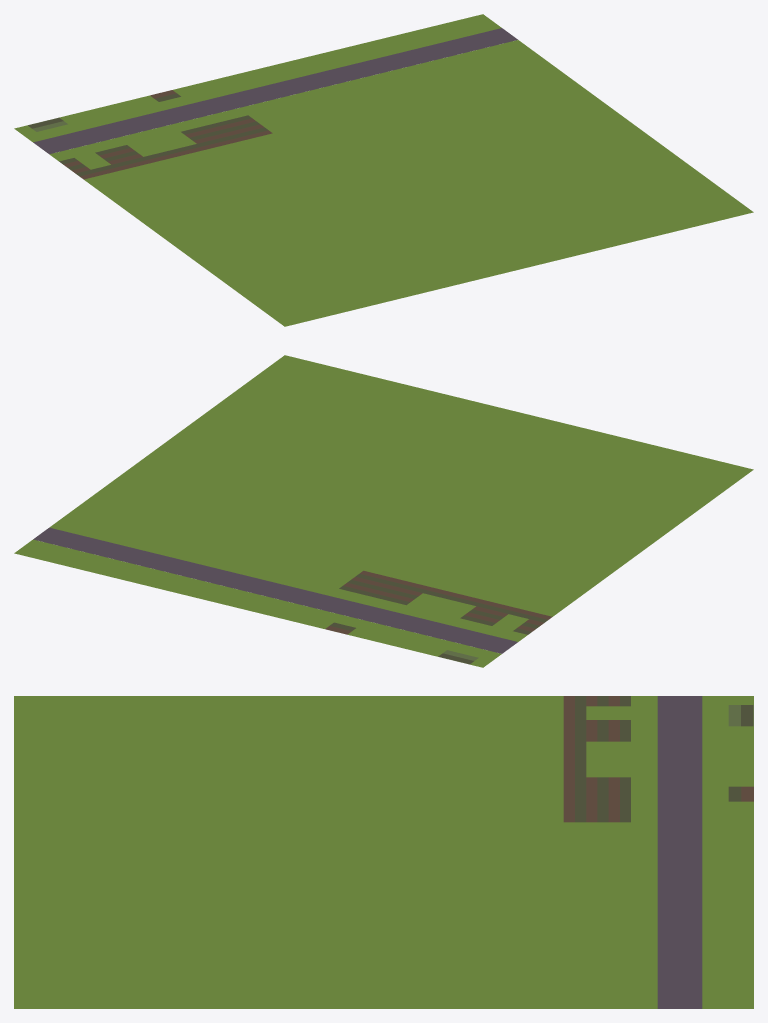
File: cure-15-3.glb
The picture shows the model from 3 angles, top to bottom: view 1: azimuth 30°, elevation 25°; view 2: azimuth 150°, elevation 25°; view 3: azimuth 270°, elevation 25°; orthographic projection. The views are drawn at different scales.
Parts seen in each view (by area): view 1: cure-15-3; view 2: cure-15-3; view 3: cure-15-3.
Boxes of the visible parts, box(x1,y1,x2,y2) form: cure-15-3: box(14, 14, 753, 326); cure-15-3: box(14, 355, 753, 667); cure-15-3: box(14, 696, 753, 1008).
Size of the model in its own units: 100 by 0.008 by 100.
